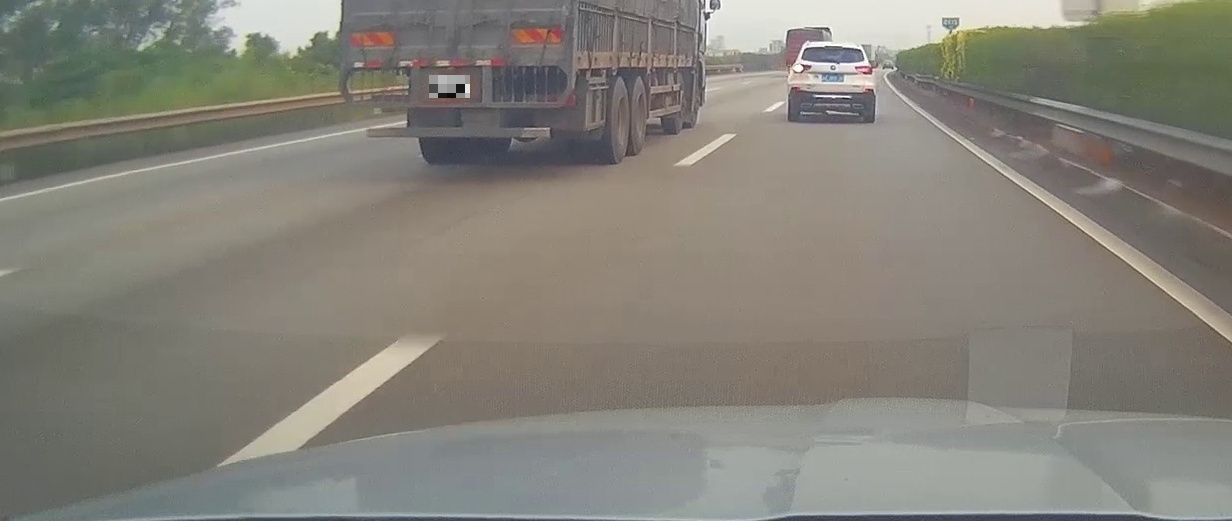L_light: (792, 64, 812, 73)
R_light: (855, 65, 872, 74)
T_light: (824, 45, 842, 50)
day-right: (788, 40, 875, 123)
plate_1: (429, 75, 470, 98)
